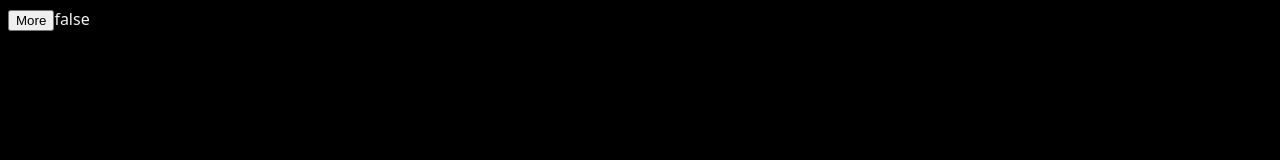
Menu › controlled wrapper closes and reopens
Click the button "More".
click(31, 20)  # box [8,10,54,31]
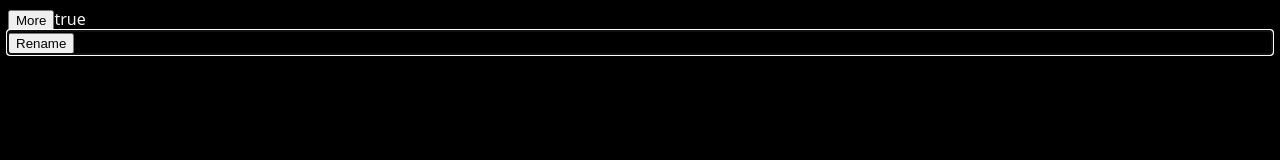
Expected: the text with test id "state" reads "true", [54,8,86,30]
Click the menu item "Rename".
click(41, 44)  # box [8,33,74,54]
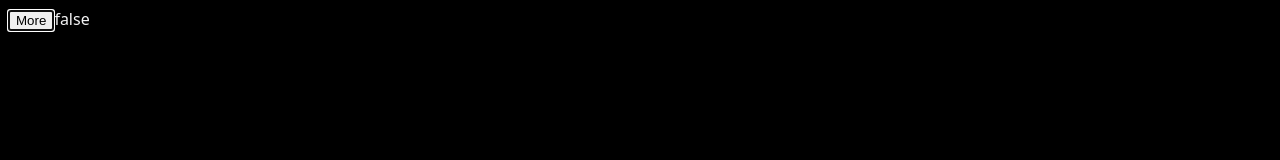
Expected: the text with test id "state" reads "false", [54,8,90,30]
